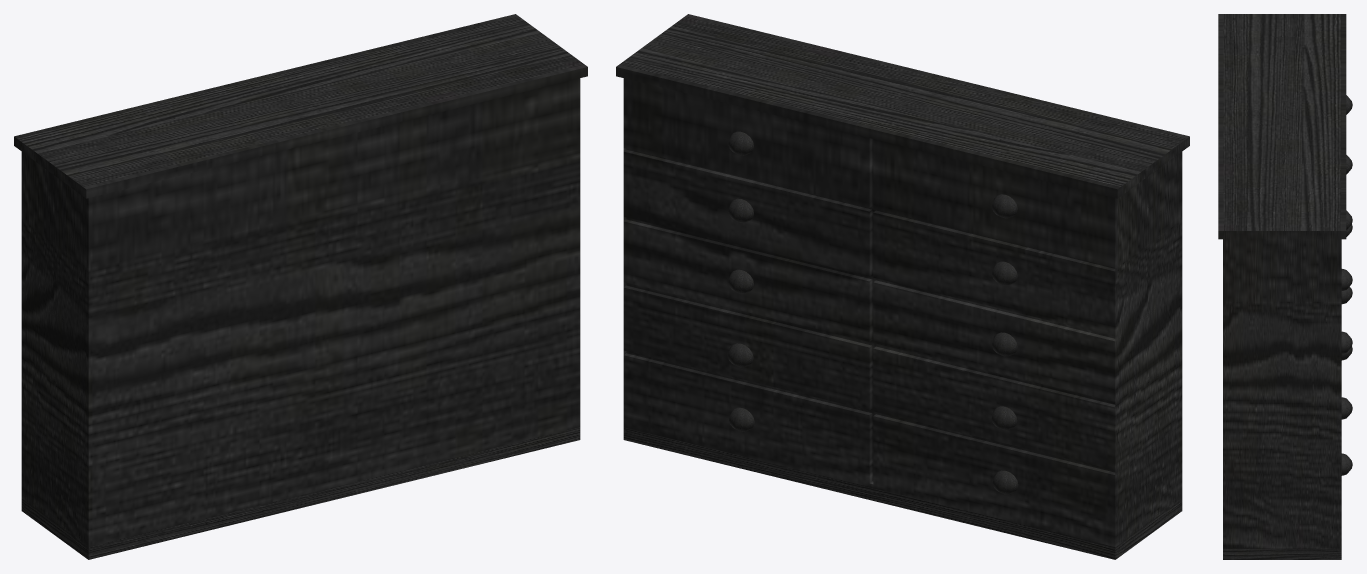
File: BlusRoom_Dresser.fbx
The picture shows the model from 3 angles, left to right: view 1: azimuth 30°, elevation 25°; view 2: azimuth 150°, elevation 25°; view 3: azimuth 270°, elevation 25°; orthographic projection. The views are drawn at different scales.
Visible parts, largest first — view 1: Dresser; view 2: Dresser; view 3: Dresser.
Part boxes in pixels (x1,y1,x2,y2): Dresser: [14, 14, 587, 559]; Dresser: [616, 14, 1189, 559]; Dresser: [1218, 14, 1352, 559].
Size of the model in its own units: 185 by 132 by 48.53.
Materials: 1 (1 with a texture image).
